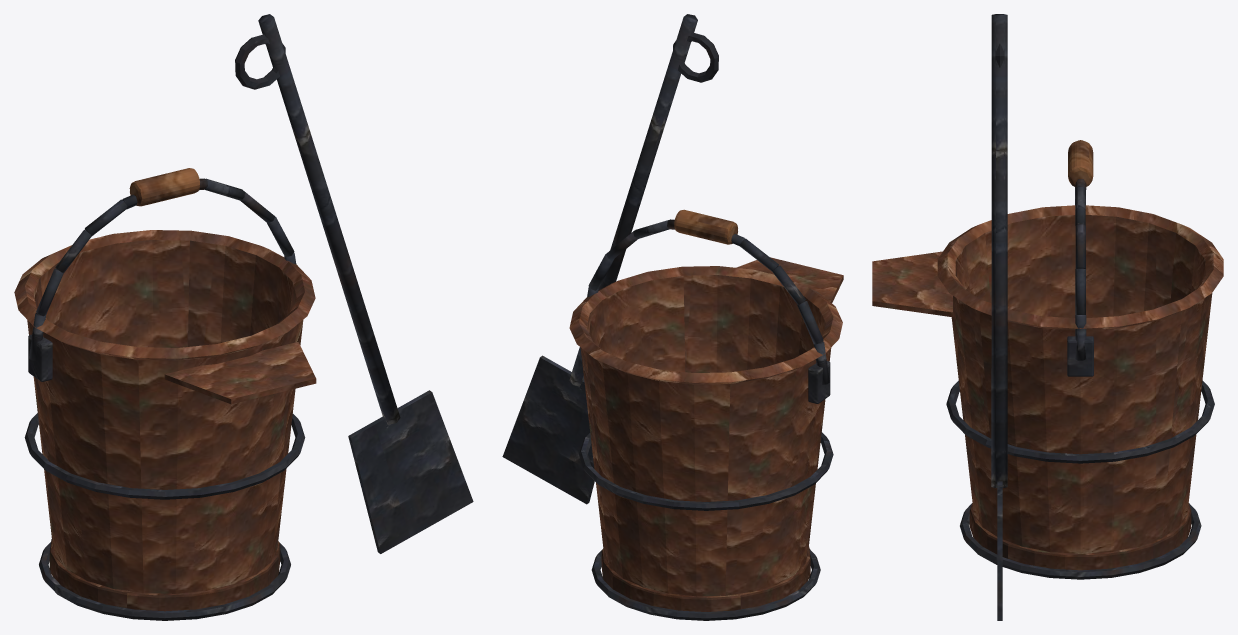
Rendered from ef_coal_scuttle_empty.glb.
3 views of the same model, side by side, from view 1: azimuth 30°, elevation 25°; view 2: azimuth 150°, elevation 25°; view 3: azimuth 270°, elevation 25° (orthographic). The views are drawn at different scales.
Parts seen in each view (by area): view 1: model; view 2: model; view 3: model.
Boxes of the visible parts, x1=… form: model: x1=14, y1=14, x2=473, y2=620; model: x1=502, y1=14, x2=843, y2=620; model: x1=872, y1=14, x2=1223, y2=620.
Bounding box in the file's own units: 0.6584 × 0.8937 × 0.5228.
Materials: 5 (4 with a texture image).
